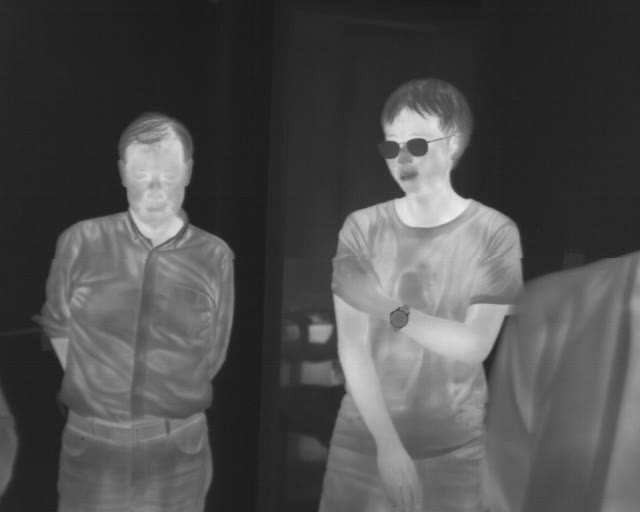face: (380, 77, 473, 197), (115, 110, 194, 227)
